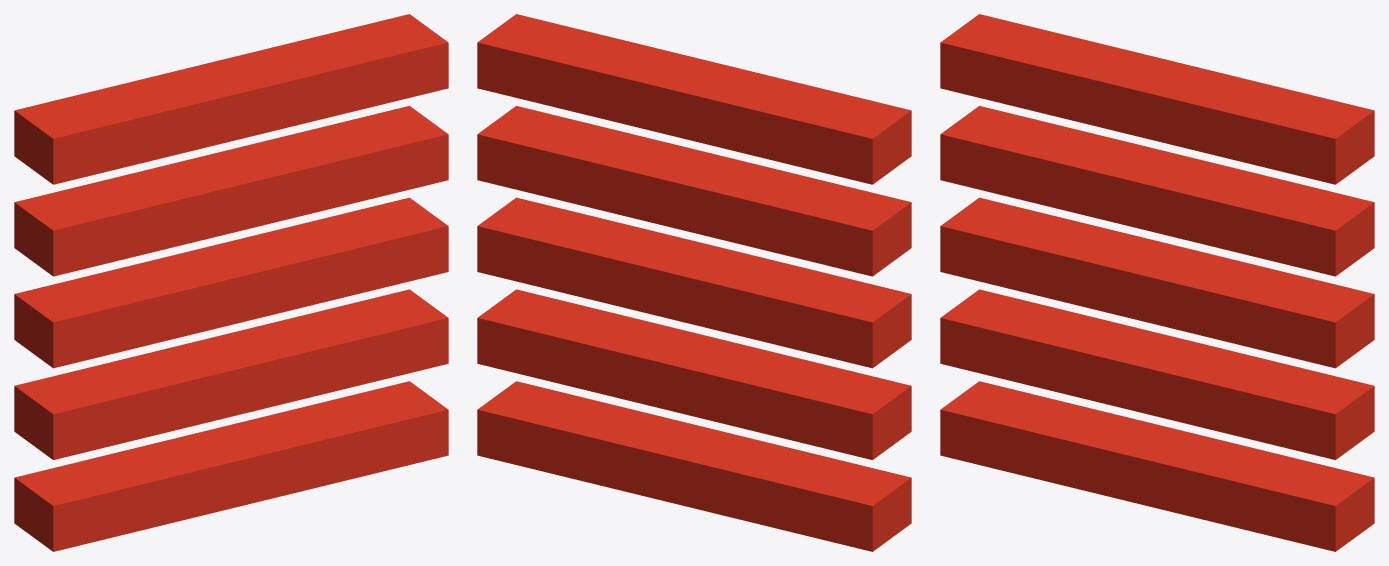
Rendered from Icon_Menu_07.fbx.
3 views of the same model, side by side, from view 1: azimuth 30°, elevation 25°; view 2: azimuth 150°, elevation 25°; view 3: azimuth 330°, elevation 25° (orthographic).
Visible parts, largest first — view 1: Icon_Menu_07; view 2: Icon_Menu_07; view 3: Icon_Menu_07.
Boxes of the visible parts, x1,y1,x2,y2 form: Icon_Menu_07: (14,14,448,551); Icon_Menu_07: (477,14,911,551); Icon_Menu_07: (940,14,1374,551).
Size of the model in its own units: 70.68 by 70.58 by 12.06.
